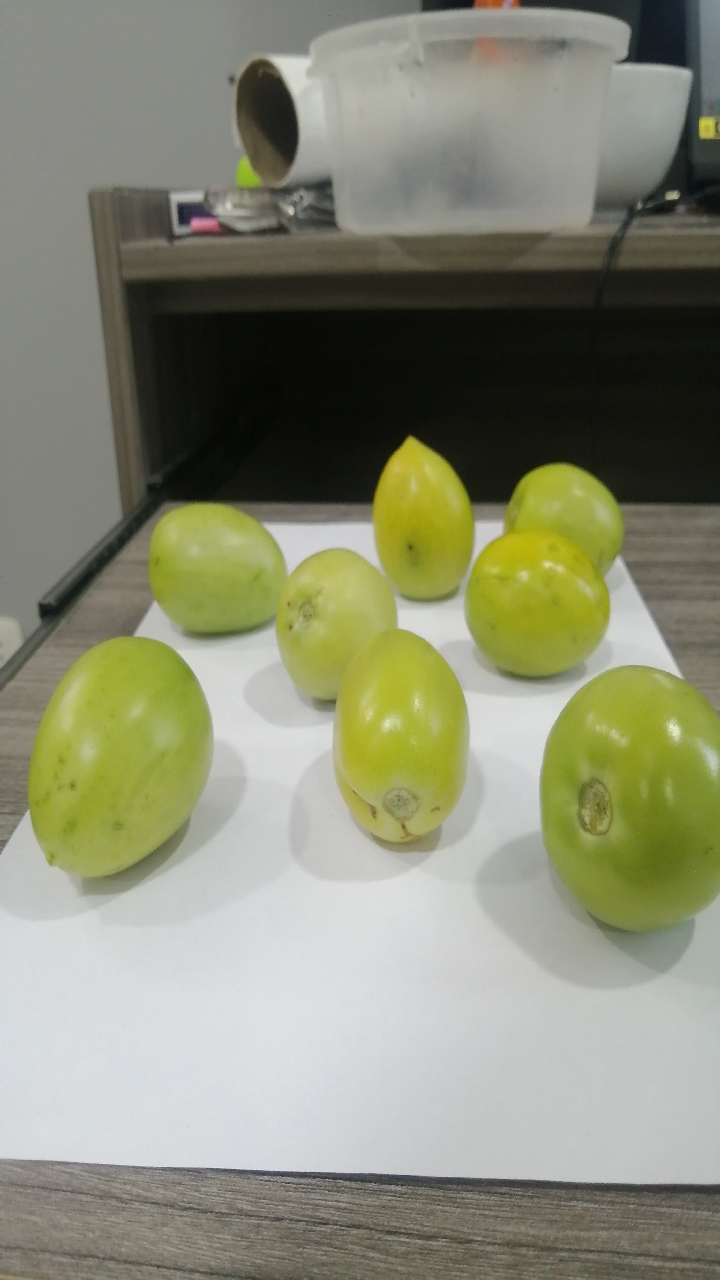tomateVerde: (9, 620, 232, 902), (521, 648, 720, 952), (314, 626, 483, 871), (451, 526, 623, 700), (355, 419, 486, 606), (129, 485, 291, 632), (484, 437, 635, 585), (266, 532, 394, 695)
